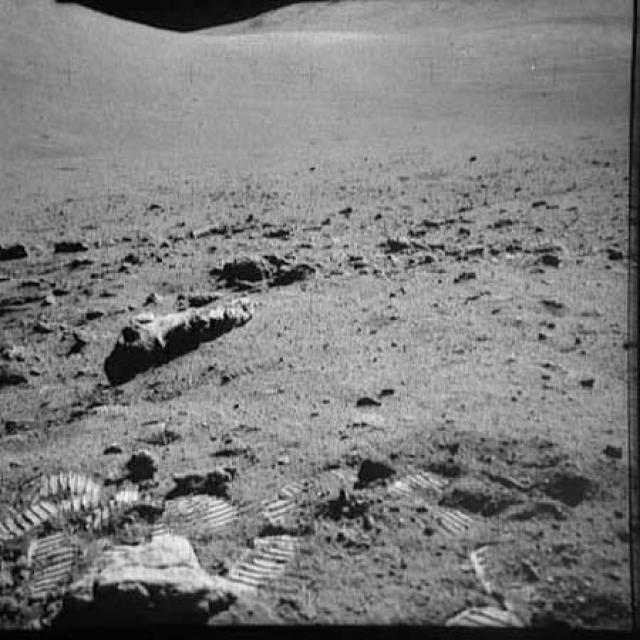rock: (96, 297, 261, 368), (209, 240, 324, 296), (174, 462, 236, 495), (354, 442, 394, 483), (123, 449, 157, 482), (54, 233, 96, 257), (0, 240, 34, 266)
